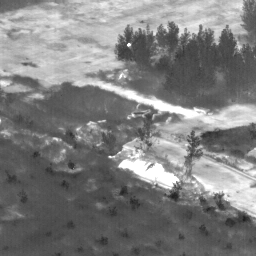aircraft: (128, 44, 130, 46)
